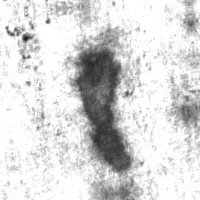patches: (70, 42, 133, 175)
